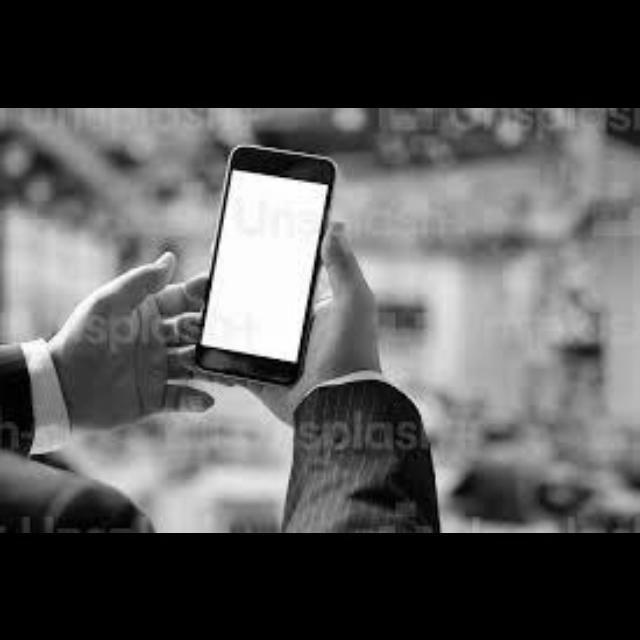fake: (196, 142, 334, 382)
